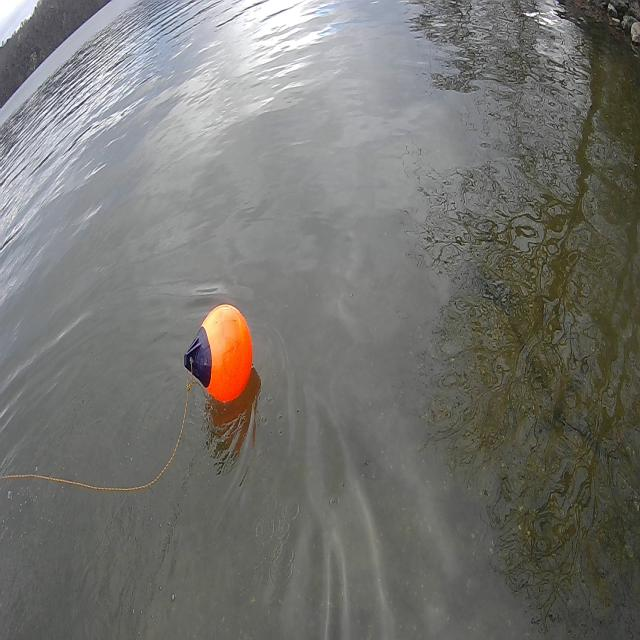Buoy: (197, 298, 255, 410)
